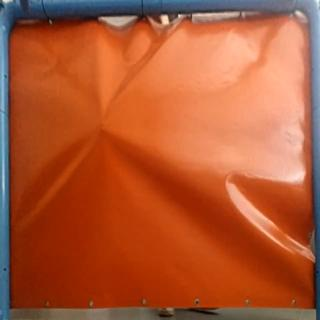Hit-hRxx: (98, 118, 114, 135)
